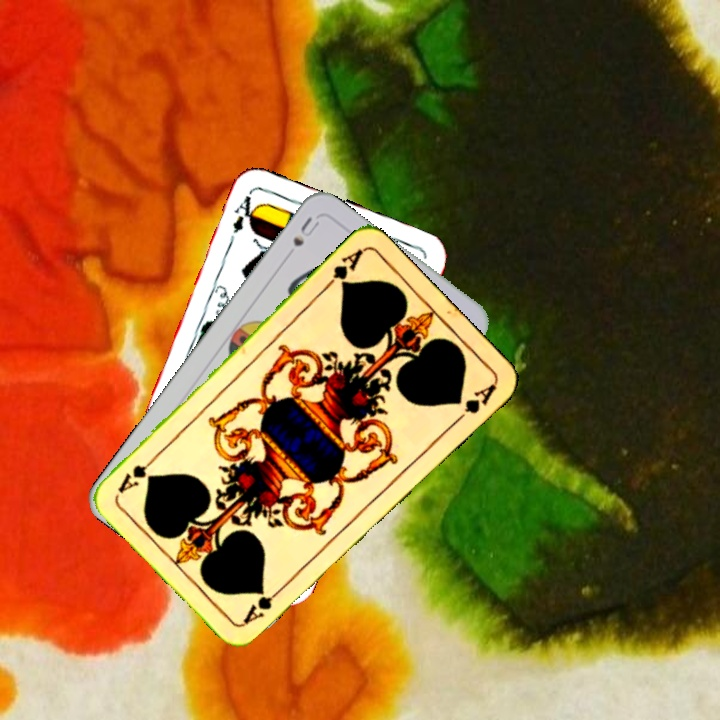EA: (228, 187, 261, 236)
GA: (319, 244, 366, 293), (238, 582, 287, 628)
SU: (288, 212, 322, 250)
